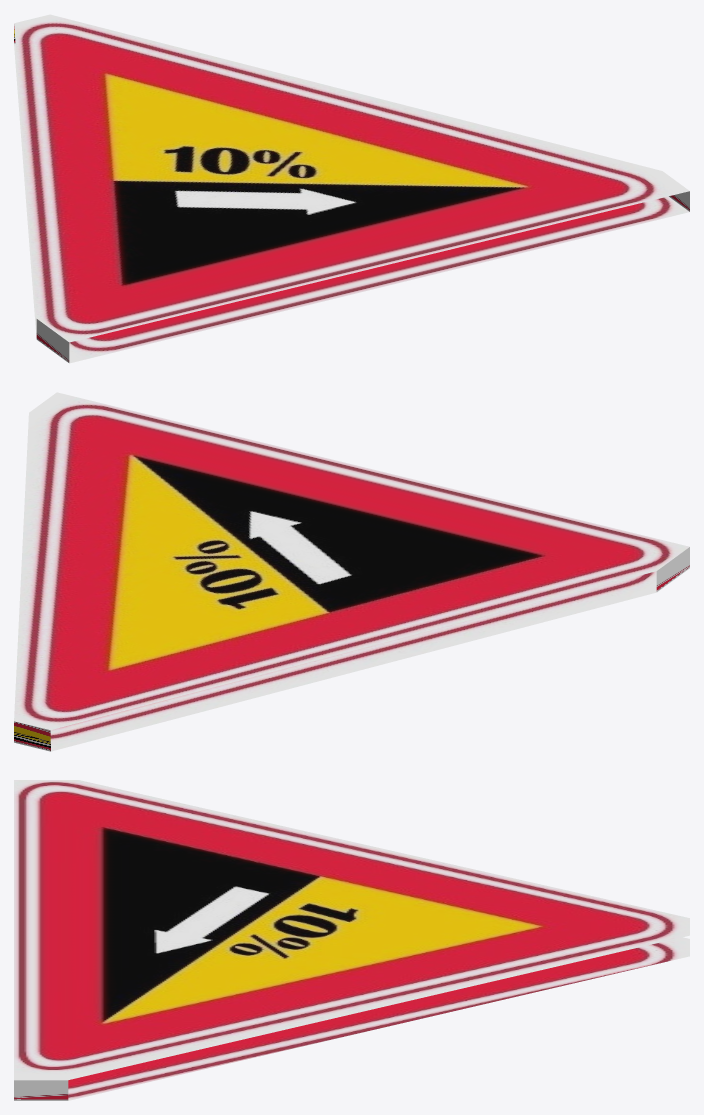
Rendered from DownHillSign.fbx.
The picture shows the model from 3 angles, top to bottom: view 1: azimuth 30°, elevation 25°; view 2: azimuth 150°, elevation 25°; view 3: azimuth 270°, elevation 25°; orthographic projection. The views are drawn at different scales.
Visible parts, largest first — view 1: Box001; view 2: Box001; view 3: Box001.
Part boxes in pixels (x1,y1,x2,y2): Box001: (14, 14, 689, 363); Box001: (14, 392, 689, 751); Box001: (14, 780, 689, 1100).
Bounding box in the file's own units: 59.85 × 1.93 × 56.96.
Materials: 1 (1 with a texture image).
